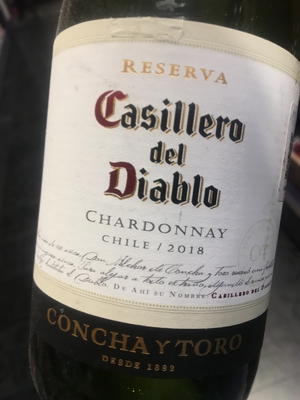casillero del diablo chardonnay: (33, 16, 300, 392)
